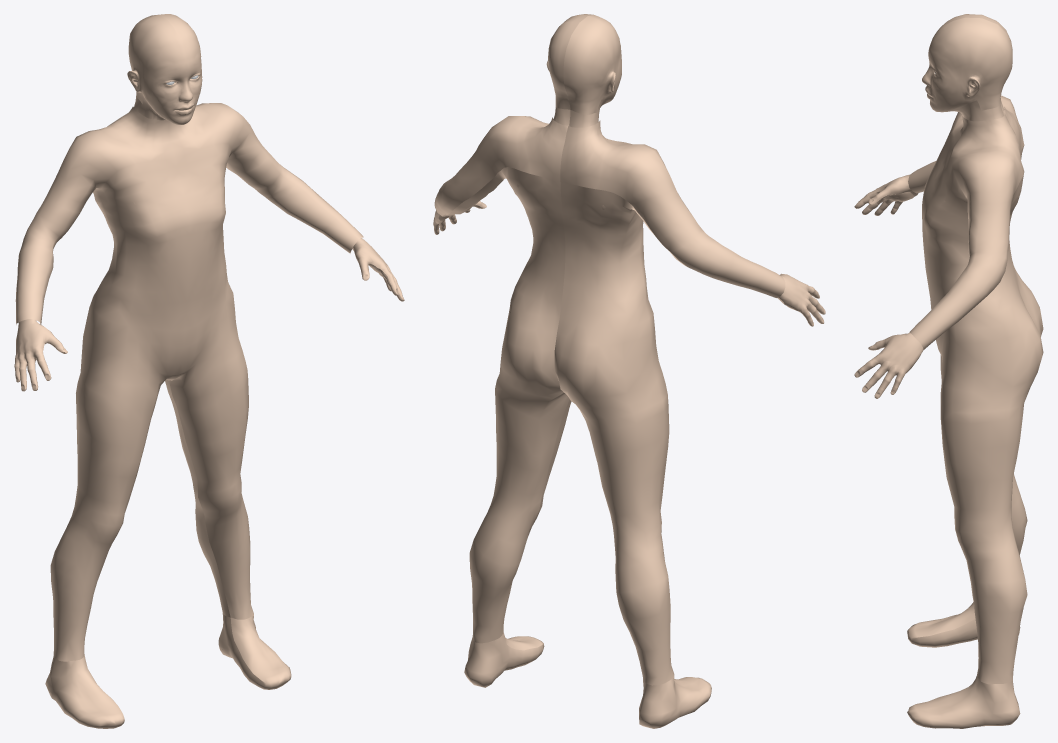
The model's file is body.glb.
3 views of the same model, side by side, from view 1: azimuth 30°, elevation 25°; view 2: azimuth 150°, elevation 25°; view 3: azimuth 270°, elevation 25° (orthographic).
Visible parts, largest first — view 1: Body; view 2: Body; view 3: Body.
Boxes of the visible parts, bbox=[...] form: Body: bbox=[14, 14, 404, 728]; Body: bbox=[433, 14, 825, 728]; Body: bbox=[854, 14, 1043, 728].
Bounding box in the file's own units: 9.93 × 16.71 × 4.31.
